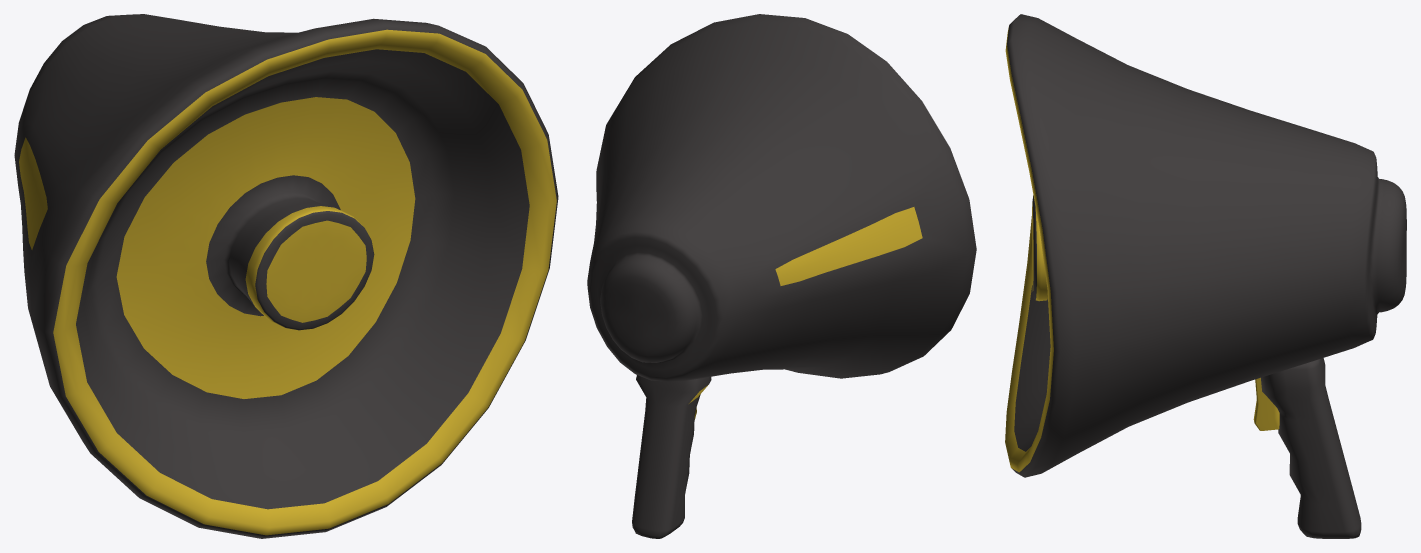
Rendered from trumpet.fbx.
The picture shows the model from 3 angles, left to right: view 1: azimuth 30°, elevation 25°; view 2: azimuth 150°, elevation 25°; view 3: azimuth 270°, elevation 25°; orthographic projection. The views are drawn at different scales.
Visible parts, largest first — view 1: laba:pCylinder1; view 2: laba:pCylinder1, laba:Loudspeaker_04; view 3: laba:pCylinder1, laba:Loudspeaker_04.
Boxes of the visible parts, bbox=[...] form: laba:pCylinder1: bbox=[14, 14, 558, 538]; laba:pCylinder1: bbox=[587, 14, 976, 381]; laba:Loudspeaker_04: bbox=[632, 375, 711, 538]; laba:pCylinder1: bbox=[1005, 14, 1406, 477]; laba:Loudspeaker_04: bbox=[1253, 358, 1361, 538].
Bounding box in the file's own units: 20.81 × 22.37 × 16.68.
